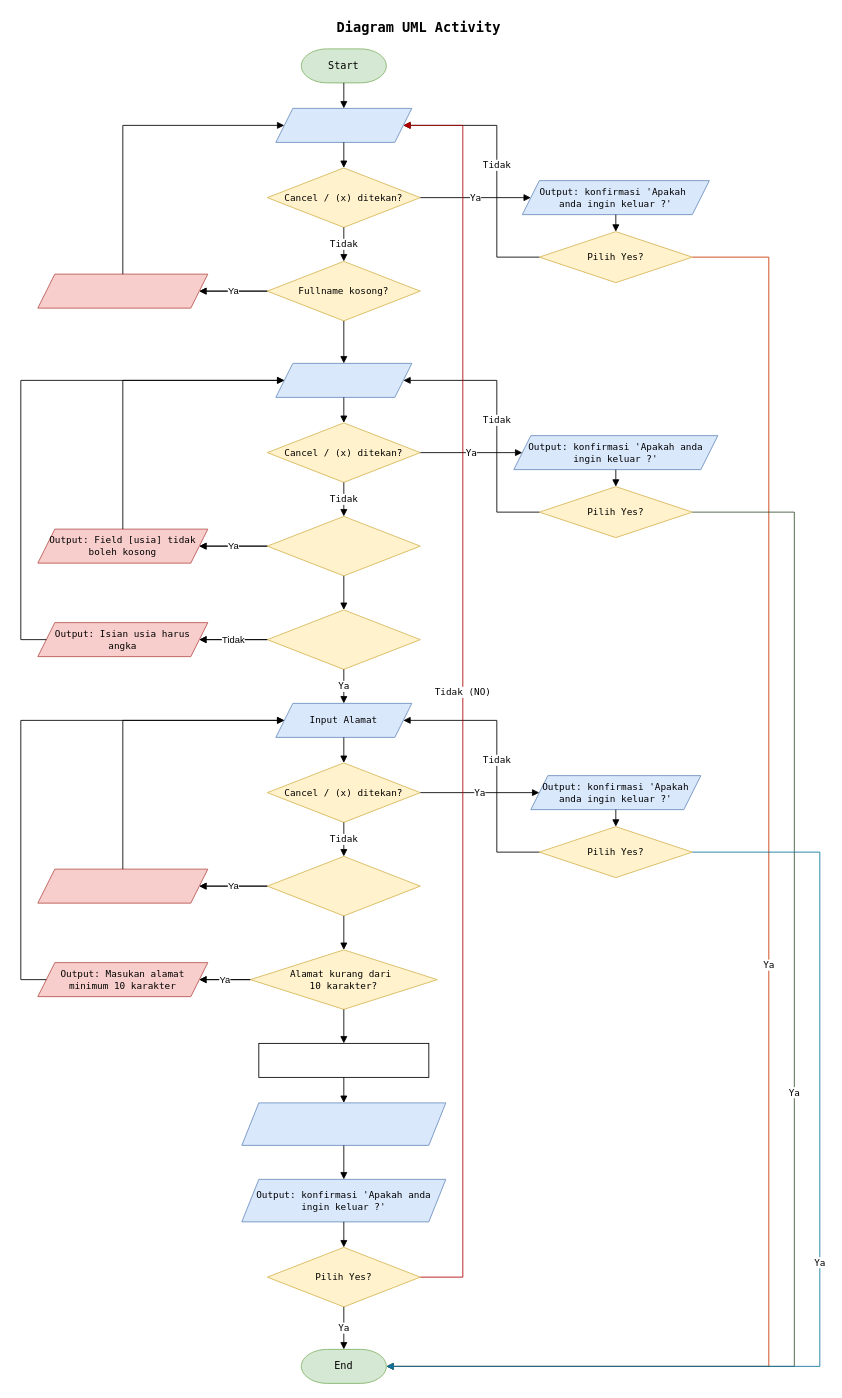
This 842x1398 diagram has some shape labels left out. Each missing label, with the centre of its shape:
"Alamat kosong?" goes at (343,886).
"Input Fullname" goes at (343,125).
"Input Usia" goes at (343,380).
"Output: dialog info (Fullname, Usia, Alamat), klik OK" goes at (343,1123).
"Output: Field [alamat] tidak boleh kosong" goes at (122,885).
"Output: Field [fullname] tidak boleh kosong" goes at (122,290).
"Simpan data ke object Biodata" goes at (343,1060).
"Usia berupa angka?" goes at (343,639).
"Usia kosong?" goes at (343,546).
